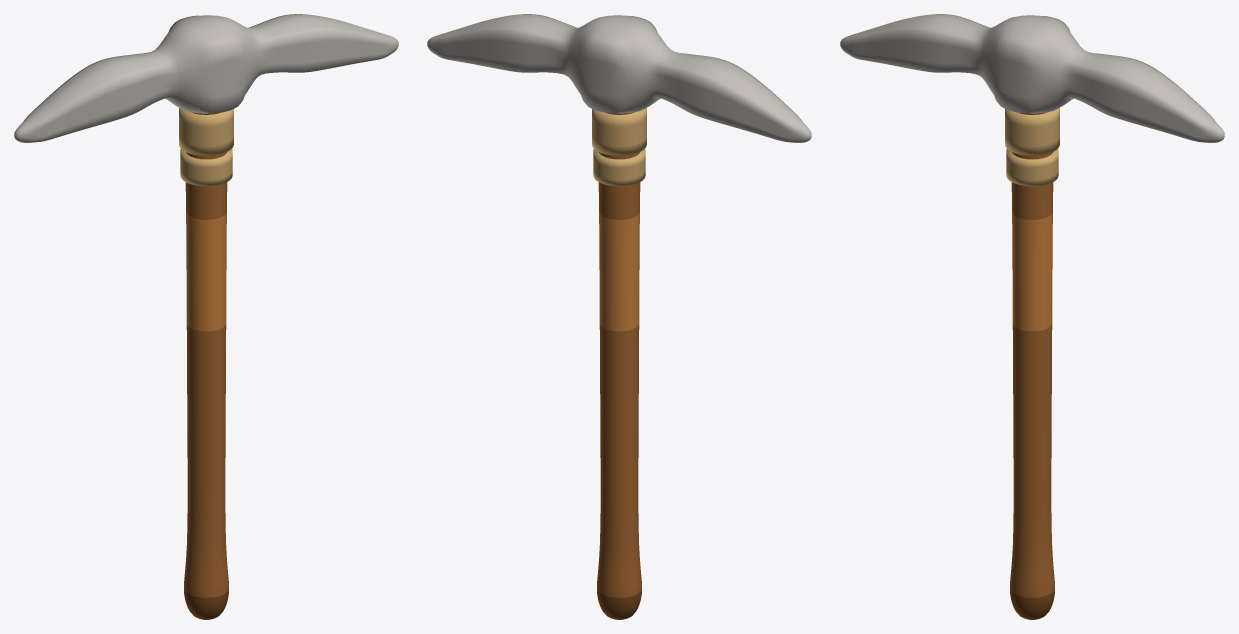
3 views of the same model, side by side, from view 1: azimuth 30°, elevation 25°; view 2: azimuth 150°, elevation 25°; view 3: azimuth 330°, elevation 25° (orthographic).
Visible parts, largest first — view 1: wood_stone_pickaxe; view 2: wood_stone_pickaxe; view 3: wood_stone_pickaxe.
Part boxes in pixels (x1,y1,x2,y2): wood_stone_pickaxe: [14, 14, 398, 619]; wood_stone_pickaxe: [427, 14, 811, 619]; wood_stone_pickaxe: [840, 14, 1224, 619].
Bounding box in the file's own units: 0.5822 × 0.8625 × 0.1.
